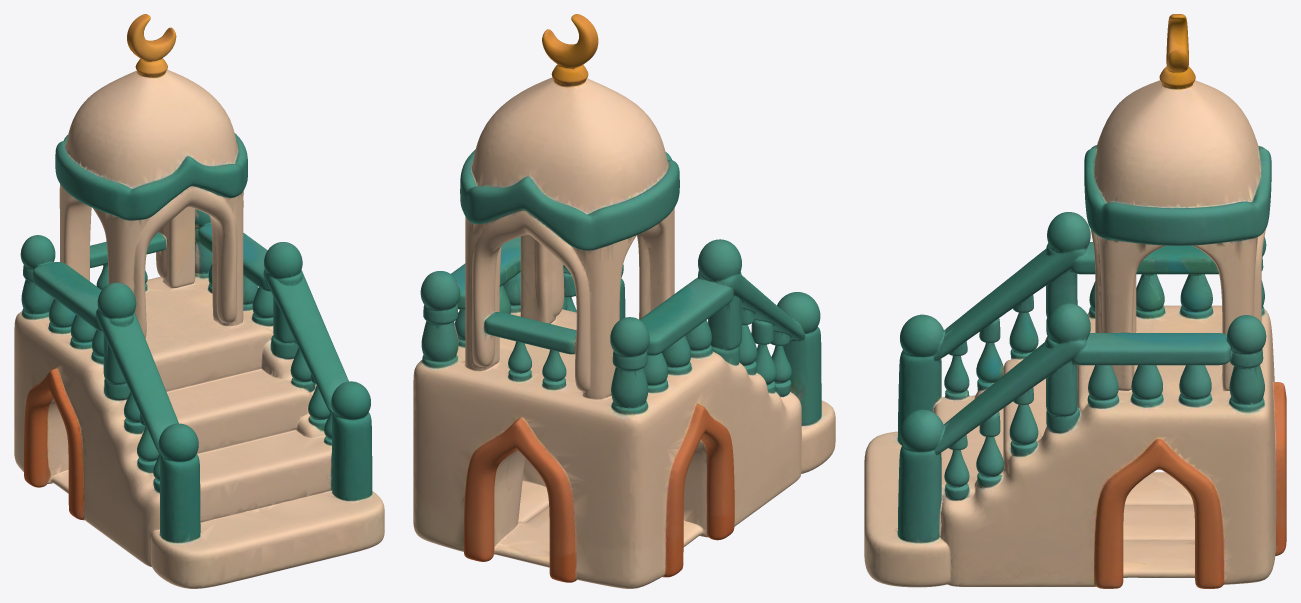
File: minbar-variant-03-terracotta-palace.glb
3 renders of one model, left to right at view 1: azimuth 30°, elevation 25°; view 2: azimuth 150°, elevation 25°; view 3: azimuth 270°, elevation 25°, orthographic. The views are drawn at different scales.
Visible parts, largest first — view 1: mesh_node; view 2: mesh_node; view 3: mesh_node.
Part boxes in pixels (box(x1,y1,x2,y2)): mesh_node: box(14, 14, 384, 588); mesh_node: box(413, 14, 835, 588); mesh_node: box(864, 14, 1286, 588).
Bounding box in the file's own units: 0.9678 × 1.9 × 1.42.
Materials: 1 (1 with a texture image).
